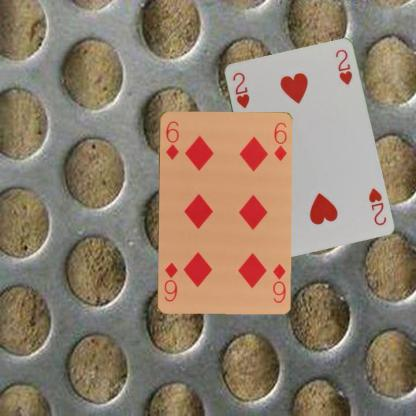2h: (365, 185, 387, 226), (230, 69, 251, 110)
6d: (163, 118, 180, 160), (270, 260, 286, 304)
